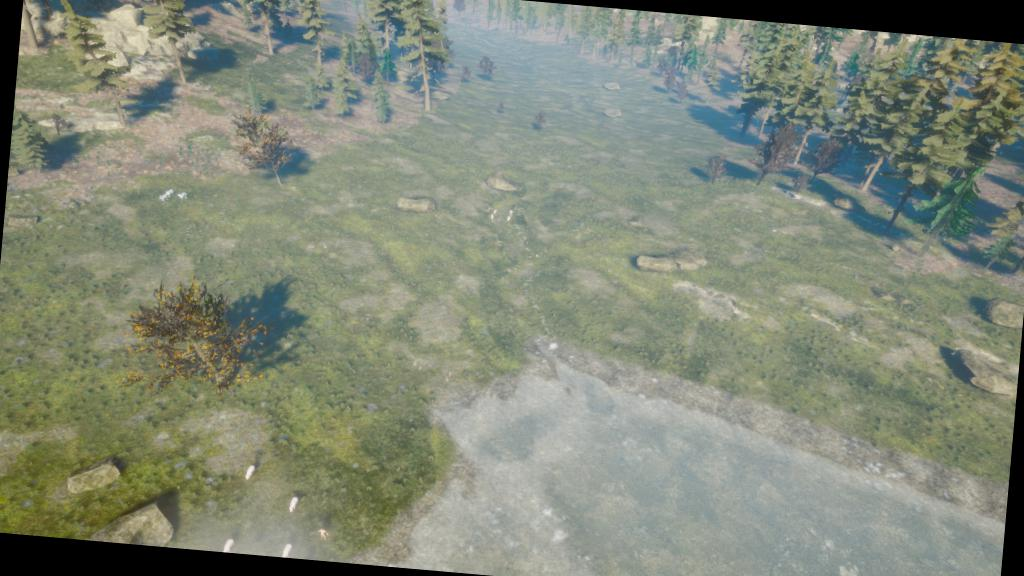human: (314, 525, 334, 545)
pig: (237, 458, 262, 485), (282, 492, 302, 516), (276, 540, 296, 558), (220, 535, 238, 552)
zebra: (176, 189, 192, 204), (155, 189, 170, 204)
